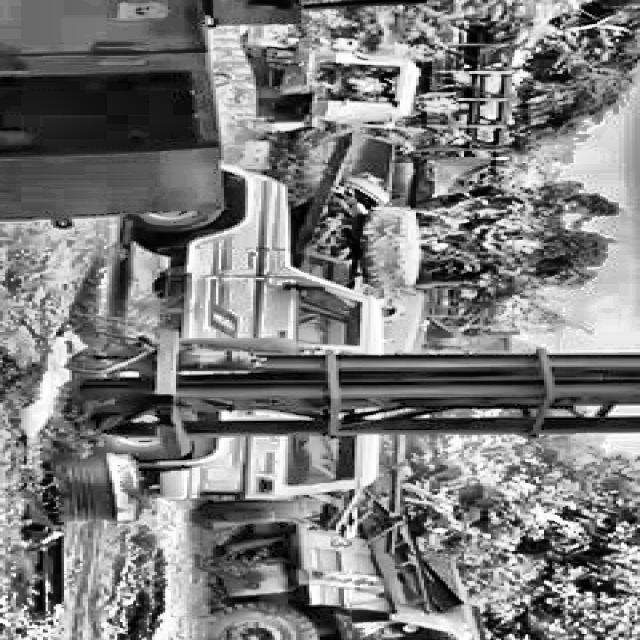light_vehicle: (204, 145, 384, 351)
